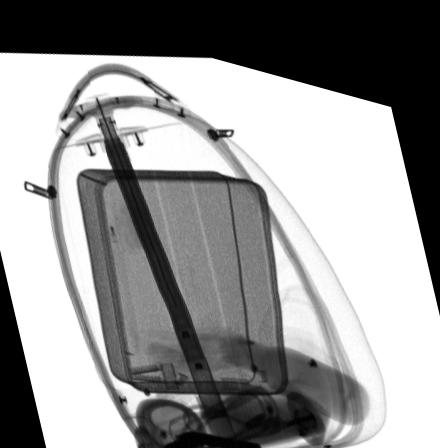Gun: (158, 419, 261, 448)
